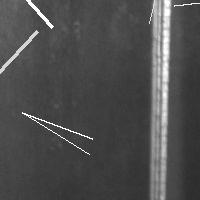scratches: (146, 1, 173, 199), (18, 108, 94, 159), (17, 108, 97, 144), (0, 26, 42, 94), (0, 0, 57, 32), (144, 0, 172, 28), (169, 0, 200, 10)
